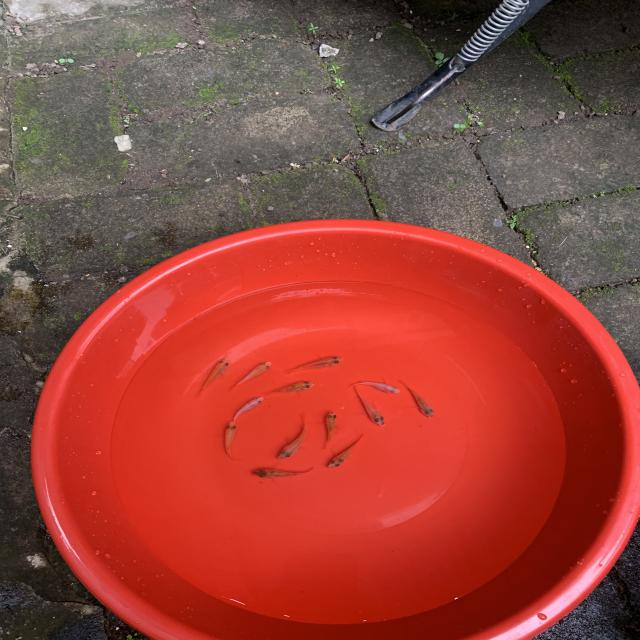nila: (394, 378, 442, 422), (277, 352, 349, 381), (220, 358, 279, 393), (273, 410, 311, 463), (347, 382, 386, 428), (194, 354, 233, 399), (326, 429, 366, 472), (242, 464, 321, 483), (228, 396, 268, 428), (221, 418, 248, 464), (258, 378, 319, 398), (318, 406, 340, 456), (342, 377, 399, 395)
